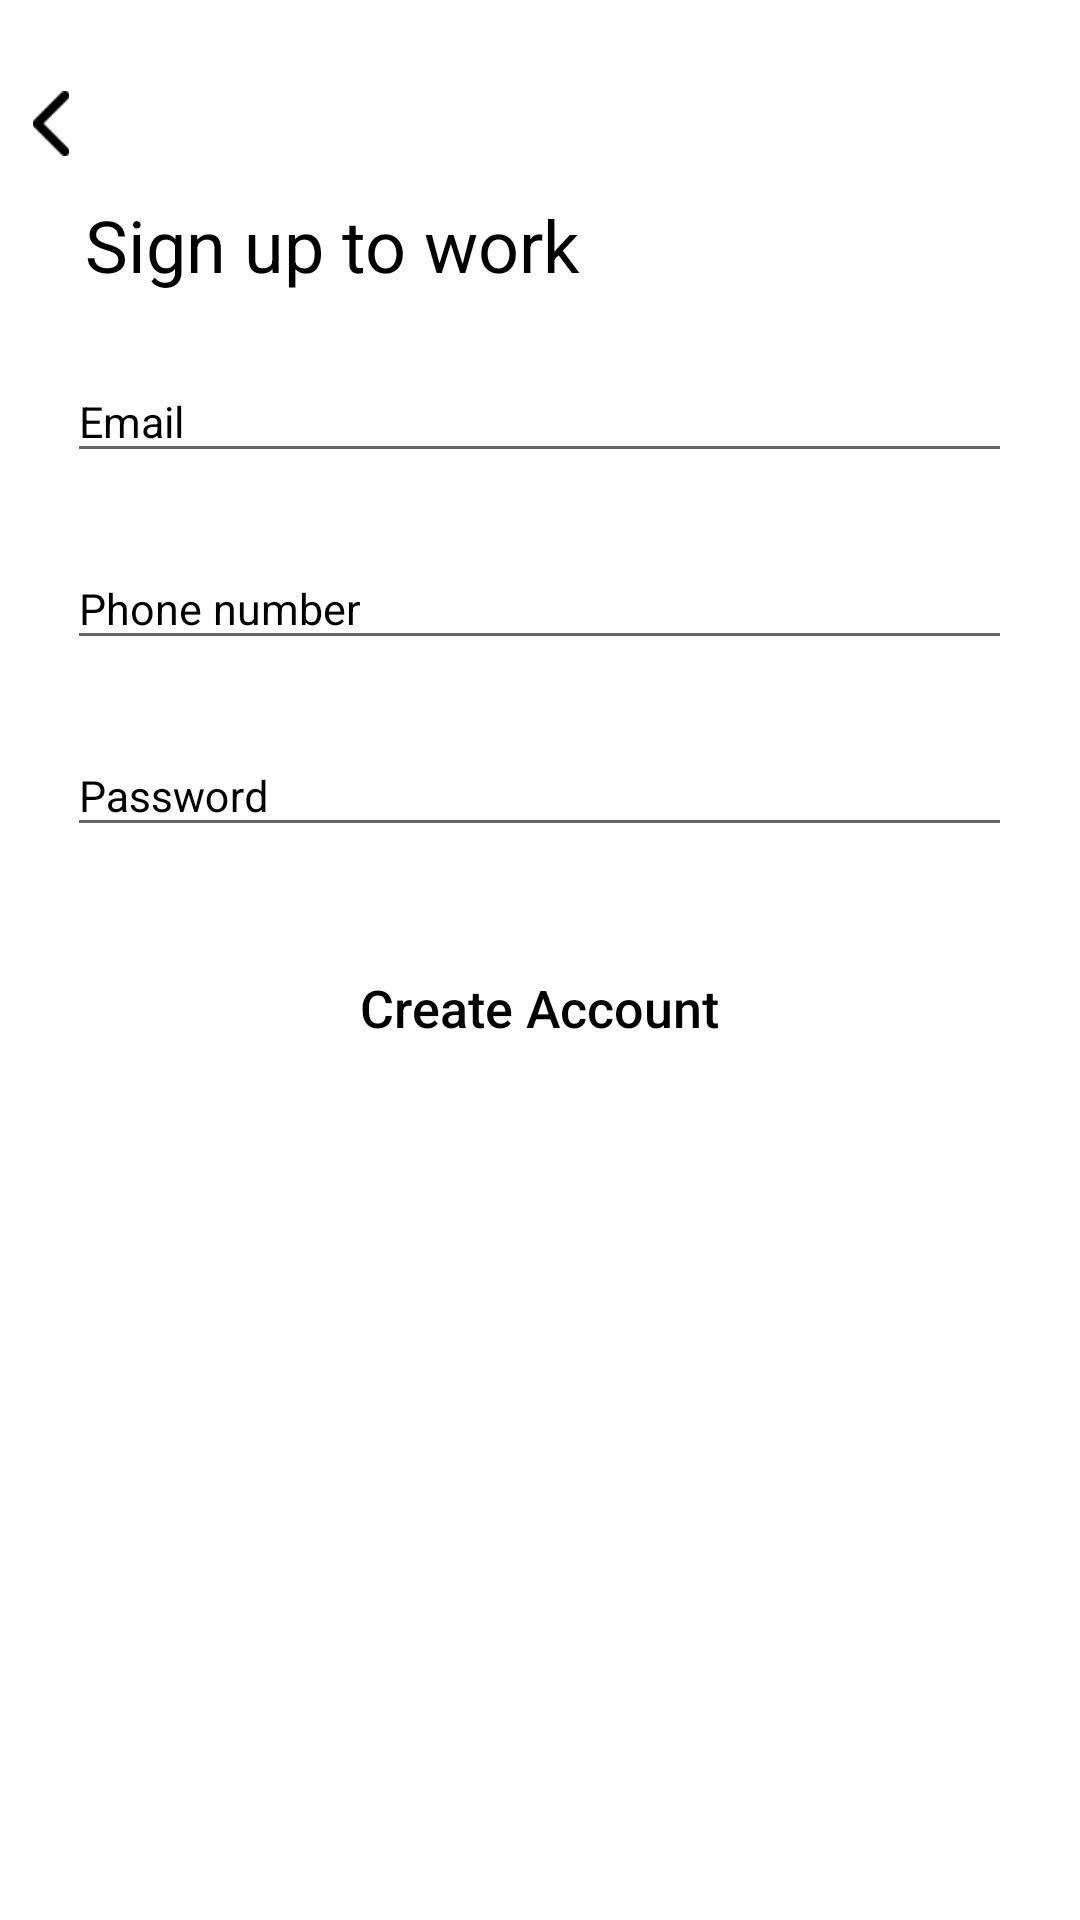

Icons on this 1080*1920 Android screen, each with its box as (x1, y1, x2, y2):
back: (33, 91, 69, 156)
